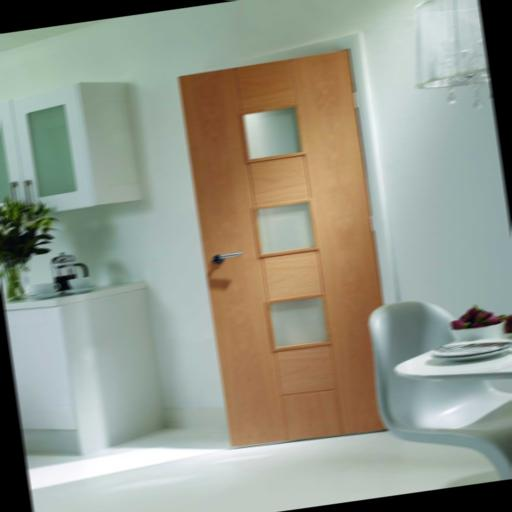Door: (177, 48, 404, 454)
